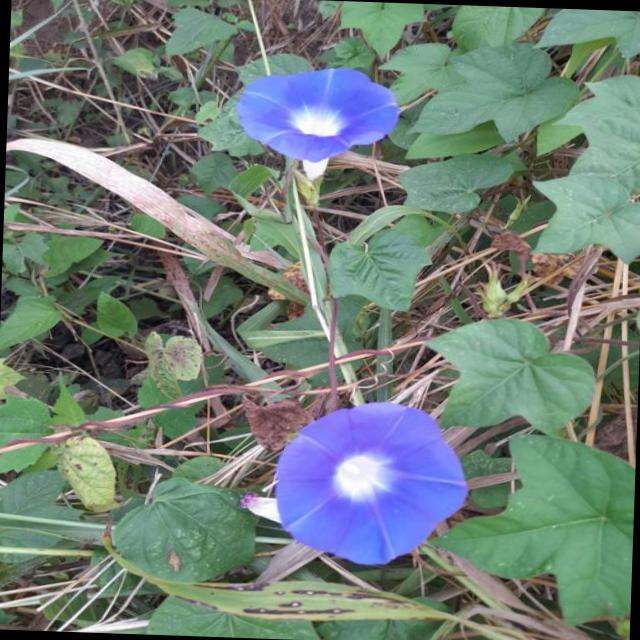ipomoea: (264, 396, 473, 570), (228, 61, 403, 179)
